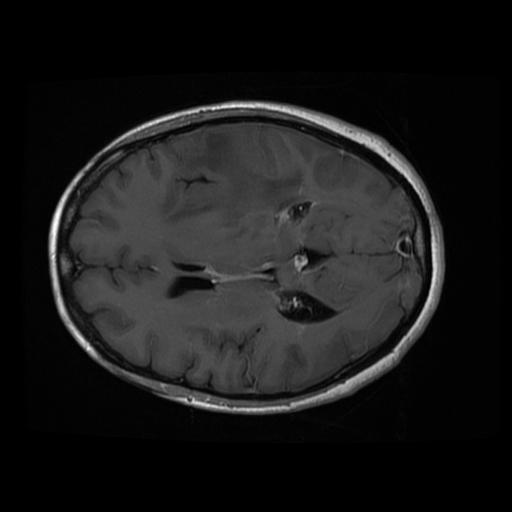glioma: (160, 131, 301, 232)
